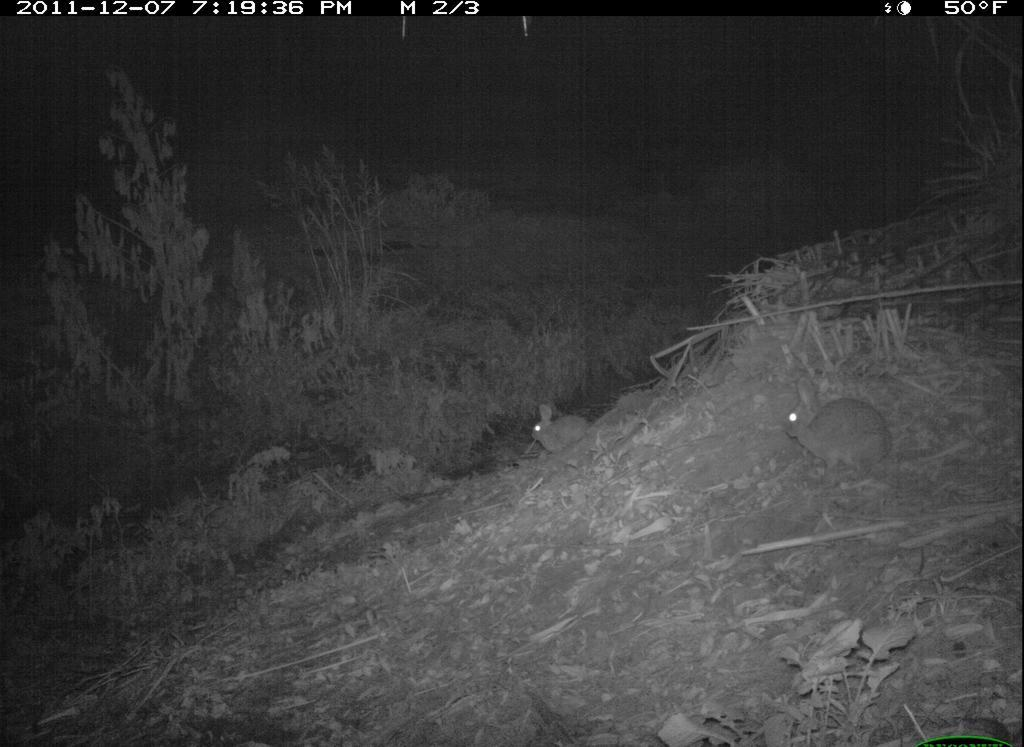rabbit: (781, 369, 902, 481), (525, 395, 594, 460)
